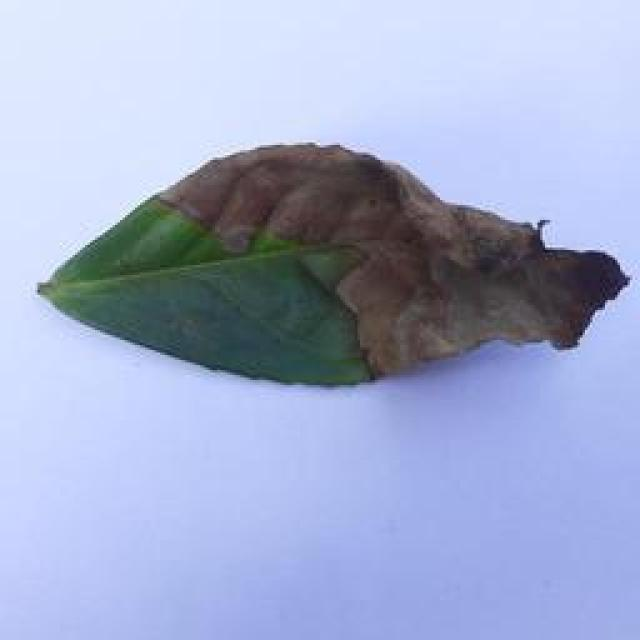Brown Blight: (35, 128, 632, 392)
